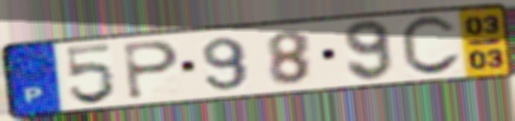5: (64, 41, 119, 107)
8: (263, 29, 315, 88)
9: (341, 18, 397, 85), (199, 34, 253, 92)
C: (397, 14, 465, 79)
P: (121, 39, 182, 101)
